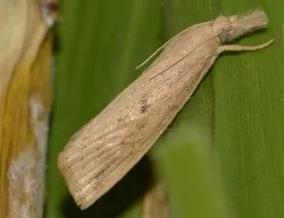Crambidae: (58, 6, 272, 211)
